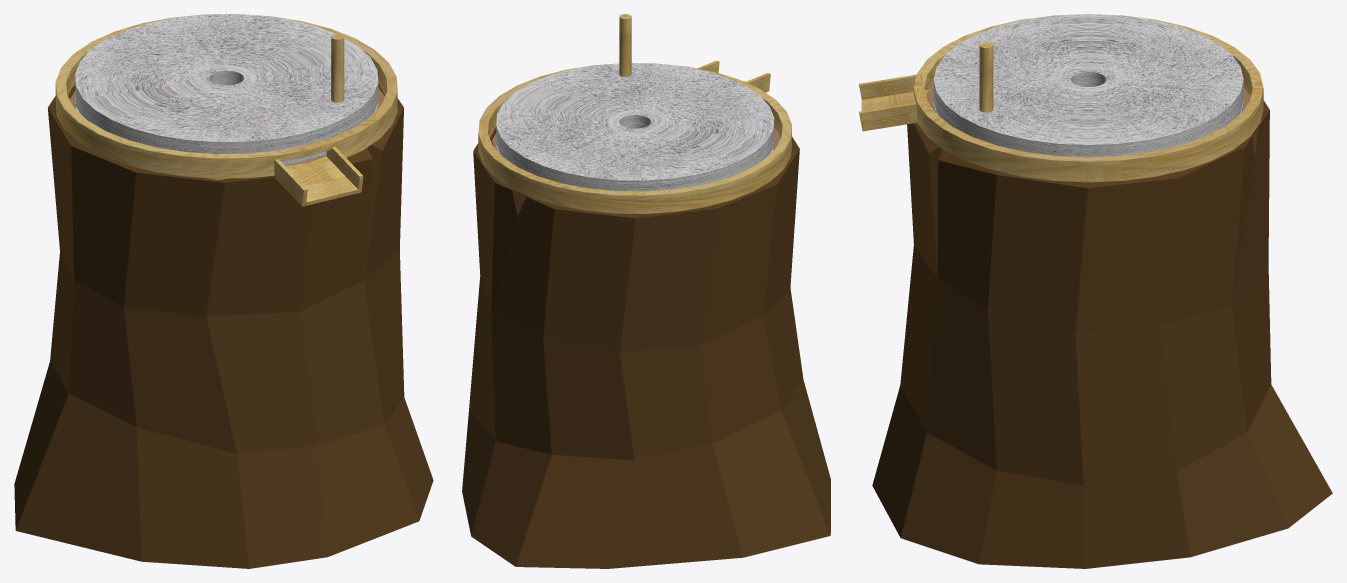
The model's file is basic_grinder.glb.
The picture shows the model from 3 angles, left to right: view 1: azimuth 30°, elevation 25°; view 2: azimuth 150°, elevation 25°; view 3: azimuth 270°, elevation 25°; orthographic projection. The views are drawn at different scales.
Visible parts, largest first — view 1: SM_StoneCutting_Prop_WoodStump_01, GrindstoneWheelTop, Drain; view 2: SM_StoneCutting_Prop_WoodStump_01, GrindstoneWheelTop, Drain; view 3: SM_StoneCutting_Prop_WoodStump_01, GrindstoneWheelTop, Drain.
Part boxes in pixels (bbox=[...]): SM_StoneCutting_Prop_WoodStump_01: bbox=[14, 84, 433, 568]; GrindstoneWheelTop: bbox=[75, 14, 378, 153]; Drain: bbox=[55, 14, 397, 206]; SM_StoneCutting_Prop_WoodStump_01: bbox=[462, 127, 830, 568]; GrindstoneWheelTop: bbox=[496, 14, 774, 191]; Drain: bbox=[478, 60, 791, 213]; SM_StoneCutting_Prop_WoodStump_01: bbox=[872, 87, 1332, 568]; GrindstoneWheelTop: bbox=[933, 14, 1243, 157]; Drain: bbox=[859, 14, 1263, 182].
Size of the model in its own units: 0.6297 by 0.7448 by 0.6761.
5 materials, 5 textured.
